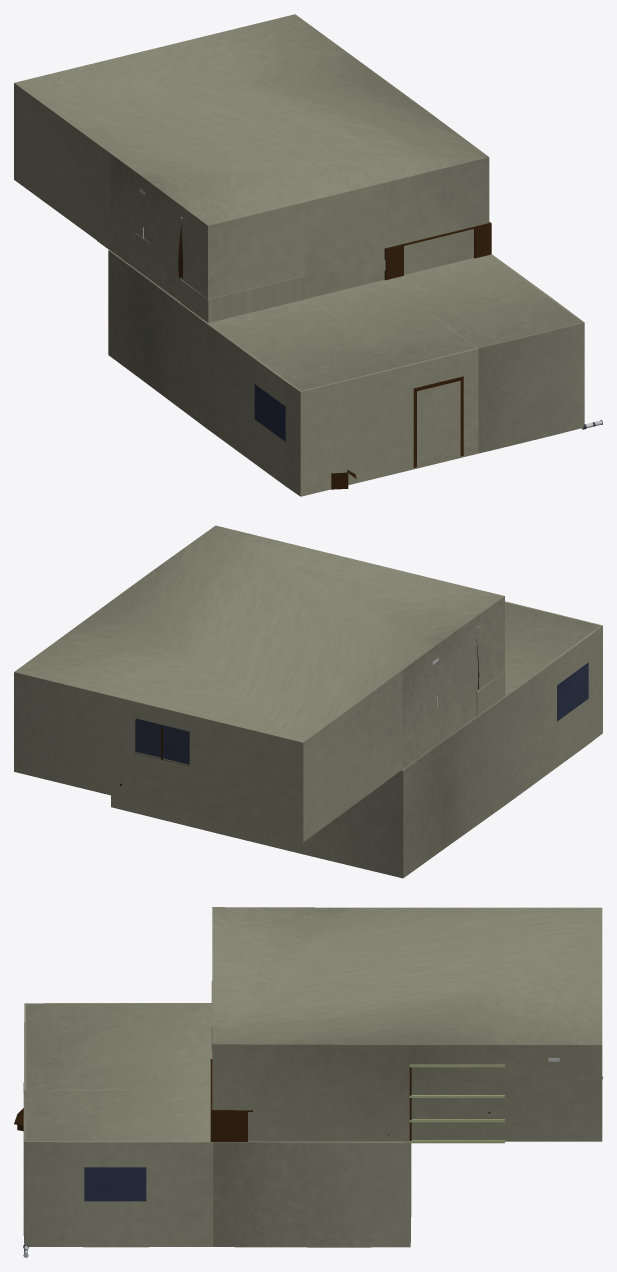
File: House Model.glb
3 views of the same model, one above another, from view 1: azimuth 30°, elevation 25°; view 2: azimuth 150°, elevation 25°; view 3: azimuth 270°, elevation 25° (orthographic). The views are drawn at different scales.
Visible parts, largest first — view 1: Upper Floor, Cieling, Walls, Upper furniture., Lower Furniture; view 2: Cieling, Upper Floor, Walls, Upper furniture.; view 3: Upper Floor, Cieling, Walls, Upper furniture..
Boxes of the visible parts, box(x1,y1,x2,y2) form: Upper Floor: box(14, 83, 581, 390); Cieling: box(14, 14, 488, 225); Walls: box(108, 250, 584, 496); Upper furniture.: box(97, 188, 491, 322); Lower Furniture: box(331, 376, 463, 489); Cieling: box(14, 525, 504, 742); Upper Floor: box(14, 596, 599, 842); Walls: box(111, 601, 602, 878); Upper furniture.: box(119, 626, 505, 786); Upper Floor: box(26, 1004, 602, 1141); Cieling: box(212, 907, 602, 1044); Walls: box(23, 1003, 411, 1247); Upper furniture.: box(210, 981, 602, 1143).
Bounding box in the file's own units: 7.54 × 4.86 × 12.7.
Materials: 15 (11 with a texture image).
